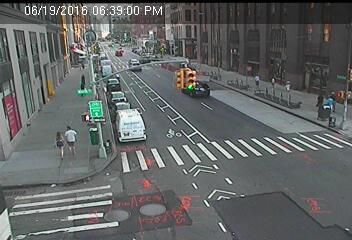neg: (71, 69, 92, 97), (213, 51, 226, 68), (168, 43, 178, 56)
pos: (45, 130, 70, 164), (58, 123, 83, 156), (323, 93, 338, 113), (251, 72, 264, 89), (315, 91, 327, 108), (282, 79, 293, 94)
